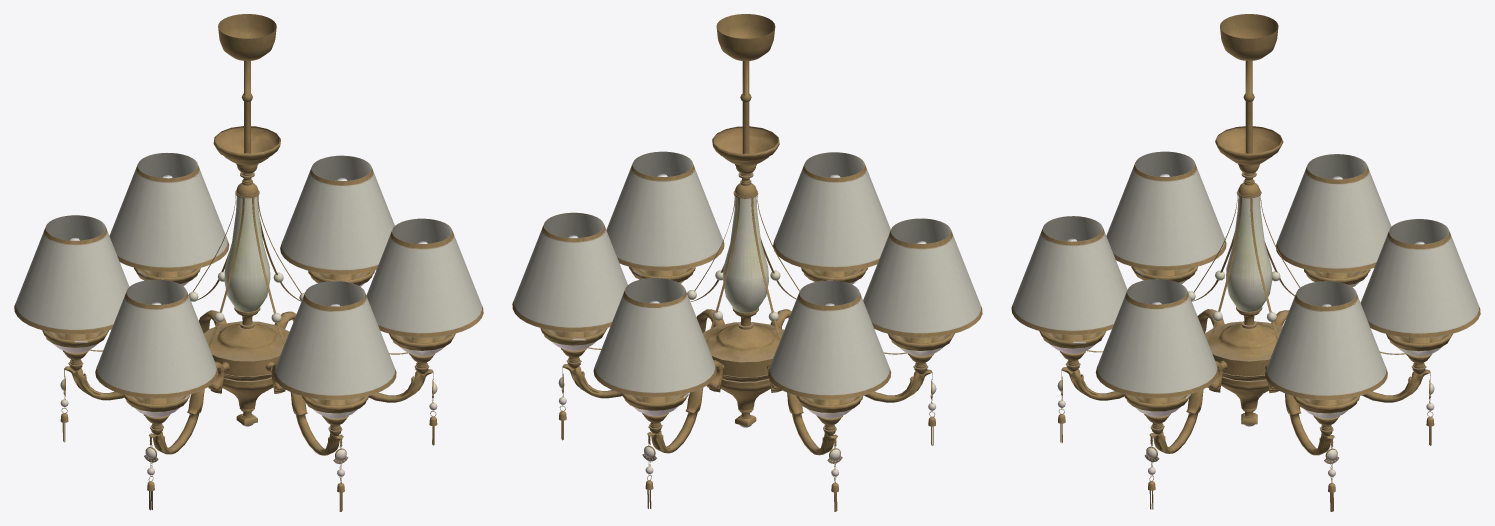
The model's file is Chandelier_01_1k.gltf.
The picture shows the model from 3 angles, left to right: view 1: azimuth 30°, elevation 25°; view 2: azimuth 150°, elevation 25°; view 3: azimuth 270°, elevation 25°; orthographic projection.
Visible parts, largest first — view 1: Chandelier_01; view 2: Chandelier_01; view 3: Chandelier_01.
Part boxes in pixels (x1,y1,x2,y2): Chandelier_01: (14,14,483,511); Chandelier_01: (512,14,982,511); Chandelier_01: (1011,14,1480,511).
Size of the model in its own units: 0.7465 by 0.7983 by 0.8155.
2 materials, 1 textured.
